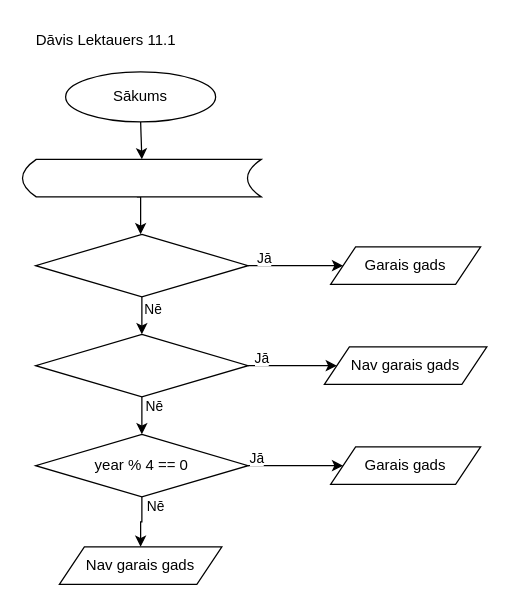
This 509x606 diagram has some shape labels left out. The centre of each missing label's shape, as x and y in pixels:
year % 100 == 0: the point at 141,365
year % 400 == 0: the point at 141,265
year = input("Ievadiet gadu"): the point at 141,177
